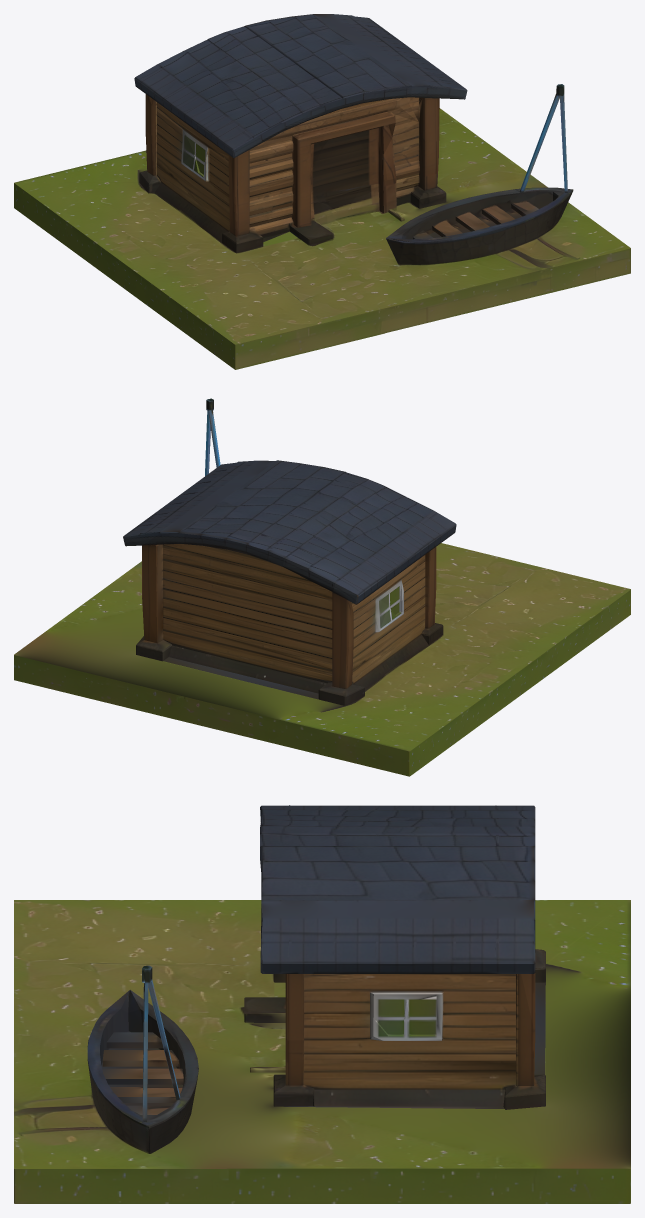
File: fisher_hut.fbx
3 renders of one model, top to bottom at view 1: azimuth 30°, elevation 25°; view 2: azimuth 150°, elevation 25°; view 3: azimuth 270°, elevation 25°, orthographic. The views are drawn at different scales.
Parts seen in each view (by area): view 1: texture_pbr_v128; view 2: texture_pbr_v128; view 3: texture_pbr_v128.
Boxes of the visible parts, <box> form: texture_pbr_v128: <box>14,14,630,369</box>; texture_pbr_v128: <box>14,398,630,776</box>; texture_pbr_v128: <box>14,805,630,1203</box>.
Bounding box in the file's own units: 190 × 73.23 × 184.
1 material, 1 textured.
